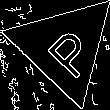P_NW: (33, 16, 96, 78)
